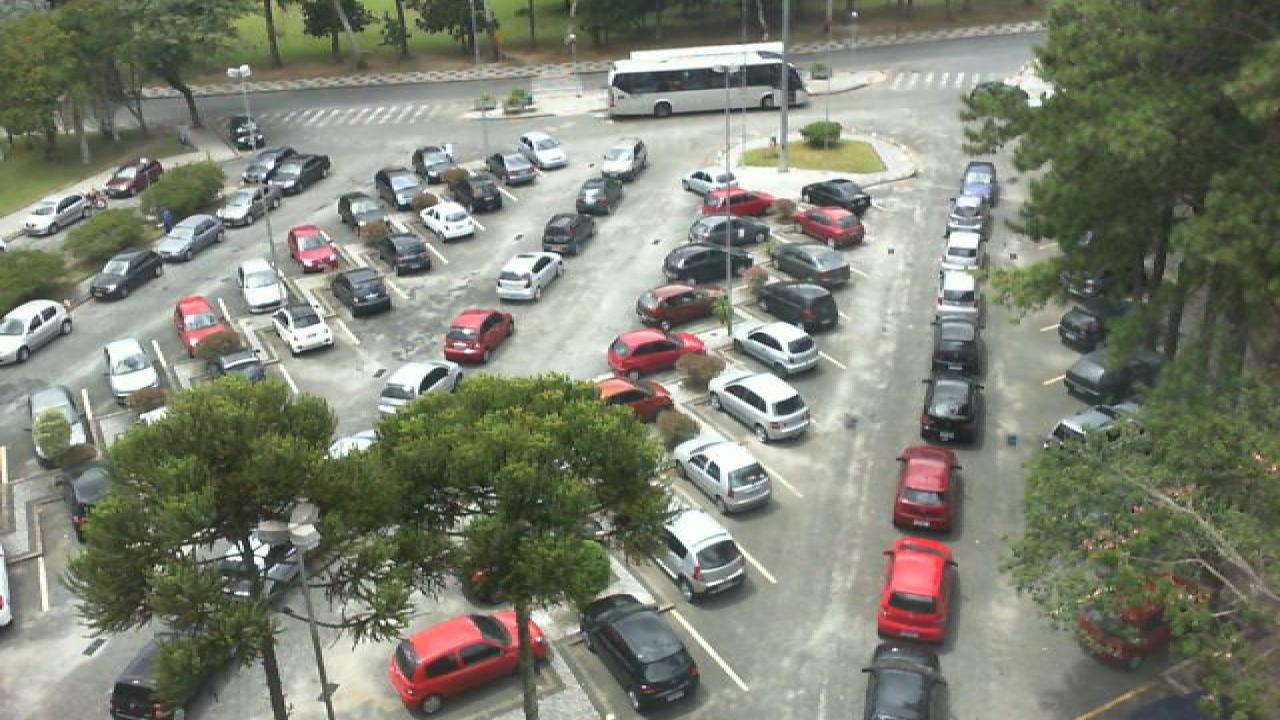Car: (388, 610, 550, 718), (582, 594, 702, 716), (646, 506, 748, 600), (876, 538, 960, 642), (668, 437, 770, 513), (706, 372, 812, 441), (858, 642, 950, 720), (106, 649, 194, 720), (890, 443, 960, 531), (374, 359, 466, 411), (734, 320, 822, 374), (606, 330, 708, 374), (920, 377, 986, 444), (0, 298, 70, 361), (592, 376, 674, 428), (760, 281, 842, 333), (440, 306, 514, 363), (86, 250, 164, 301), (104, 336, 166, 399), (922, 316, 986, 377), (634, 282, 718, 326), (154, 213, 226, 263), (1060, 356, 1136, 402), (770, 243, 852, 285), (492, 251, 564, 298), (274, 305, 336, 357), (234, 258, 292, 312), (330, 268, 392, 316), (662, 243, 740, 281), (18, 194, 90, 235), (172, 294, 228, 346), (790, 207, 866, 245), (416, 201, 480, 243), (538, 212, 598, 256), (286, 224, 340, 272), (100, 157, 164, 197), (688, 216, 772, 246), (934, 269, 986, 317), (378, 234, 434, 277), (214, 187, 272, 228), (798, 178, 872, 210), (696, 186, 772, 217), (1056, 305, 1106, 350), (454, 172, 508, 213), (598, 136, 648, 178), (574, 173, 622, 216), (516, 133, 572, 169), (936, 233, 984, 272), (486, 150, 538, 186), (278, 152, 330, 188), (336, 192, 384, 230), (252, 164, 296, 205), (942, 196, 988, 234), (952, 161, 998, 199), (376, 166, 422, 204), (680, 169, 742, 197), (410, 143, 458, 177)
